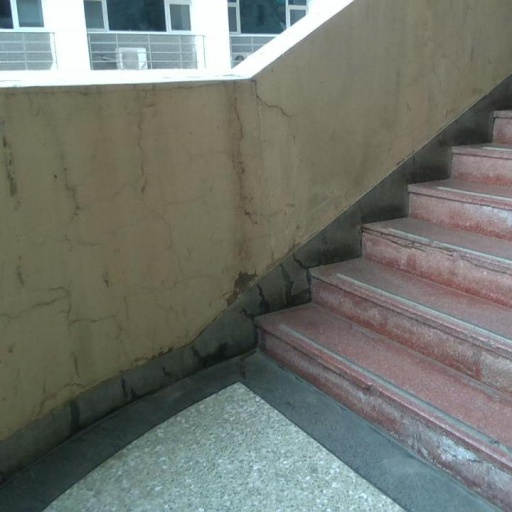Stairs: (246, 110, 512, 512)
